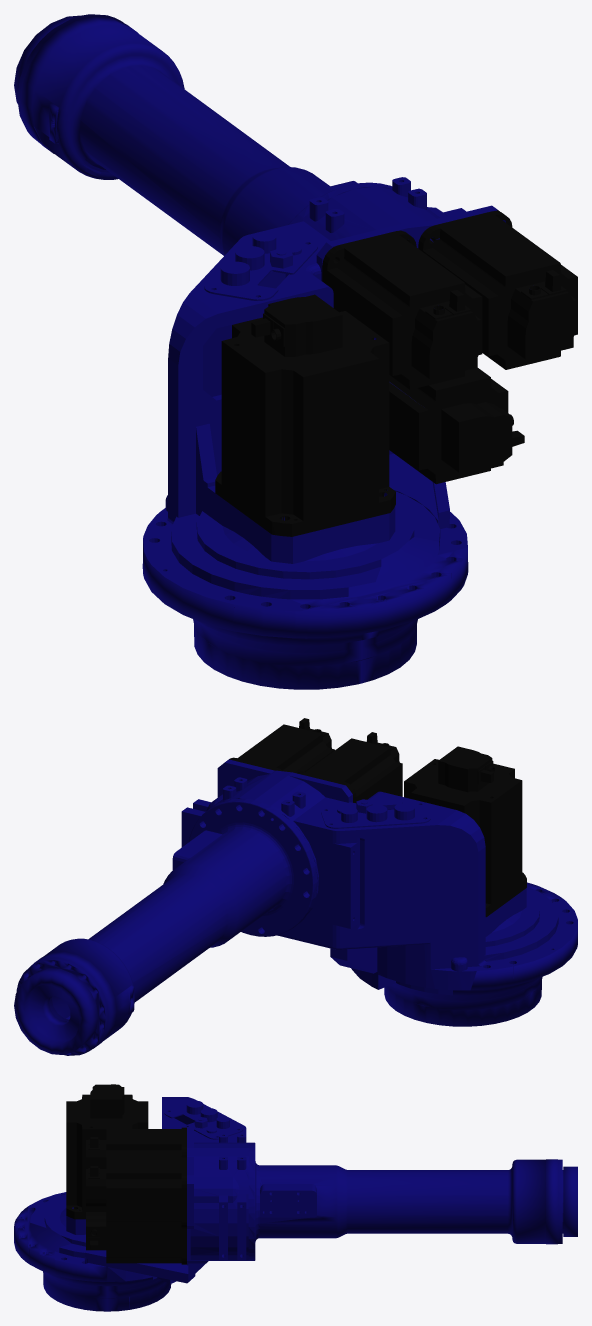
Rendered from U_axis.dae.
The picture shows the model from 3 angles, top to bottom: view 1: azimuth 30°, elevation 25°; view 2: azimuth 150°, elevation 25°; view 3: azimuth 270°, elevation 25°; orthographic projection. The views are drawn at different scales.
Visible parts, largest first — view 1: ES165D Uaxis; view 2: ES165D Uaxis; view 3: ES165D Uaxis.
Boxes of the visible parts, <box> form: ES165D Uaxis: <box>14,14,577,689</box>; ES165D Uaxis: <box>14,718,577,1055</box>; ES165D Uaxis: <box>14,1084,577,1311</box>.
Bounding box in the file's own units: 0.608 × 1.24 × 0.471.
